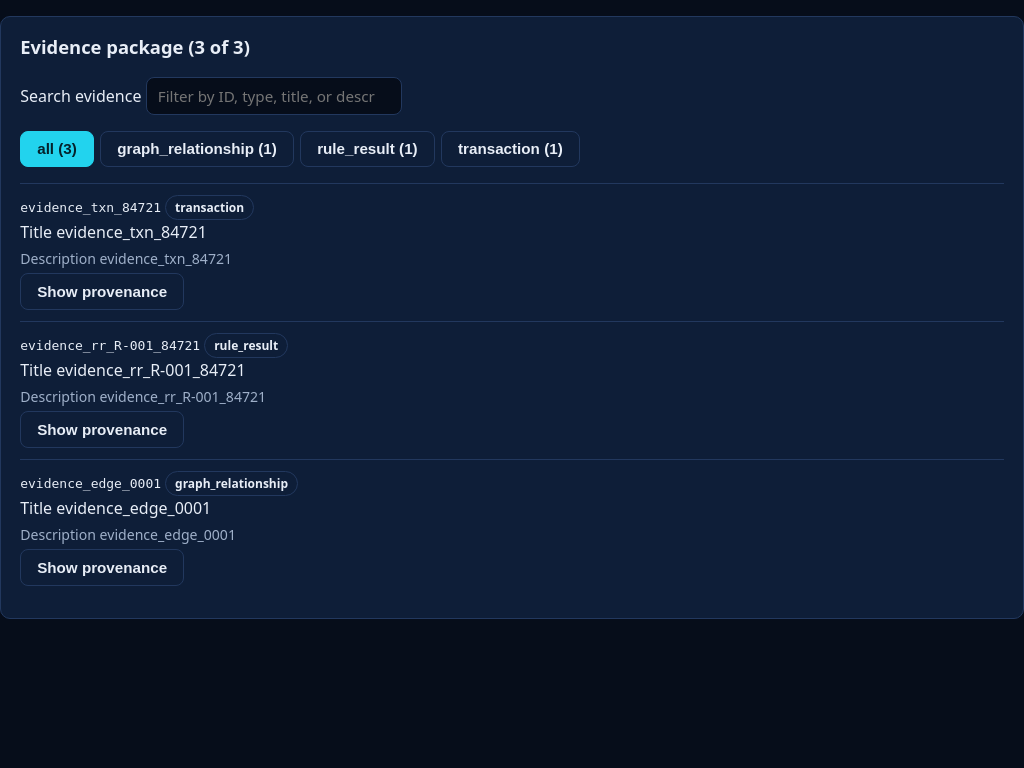
Test: EvidenceList › searches across id, type, title, and description
In the search field labelled "Search evidence": (274, 96) [146,77,402,115], type "edge_0001"
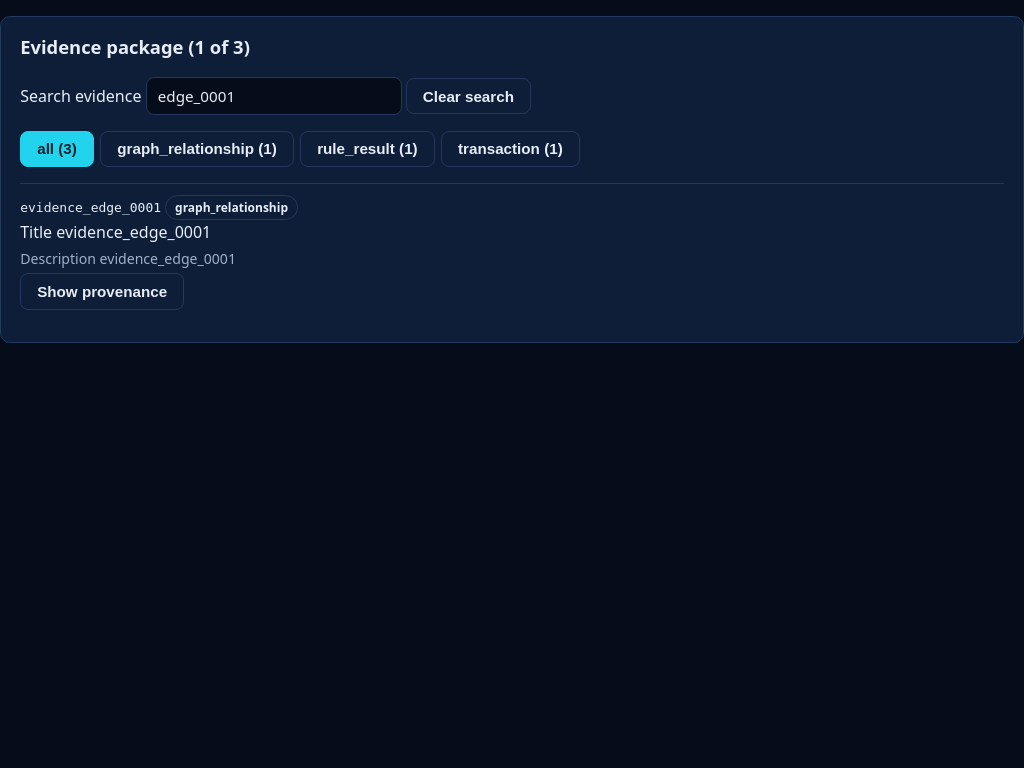
Expected: the text "evidence_edge_0001" is shown, [20,200,161,215]
Now the heading "Evidence package (1 of 3)" is shown, box [20,34,250,59]
Now the text "evidence_txn_84721" is gone
Replace the text in the search field labelled "Search evidence" with "RULE_RESULT": (274, 96) [146,77,402,115]
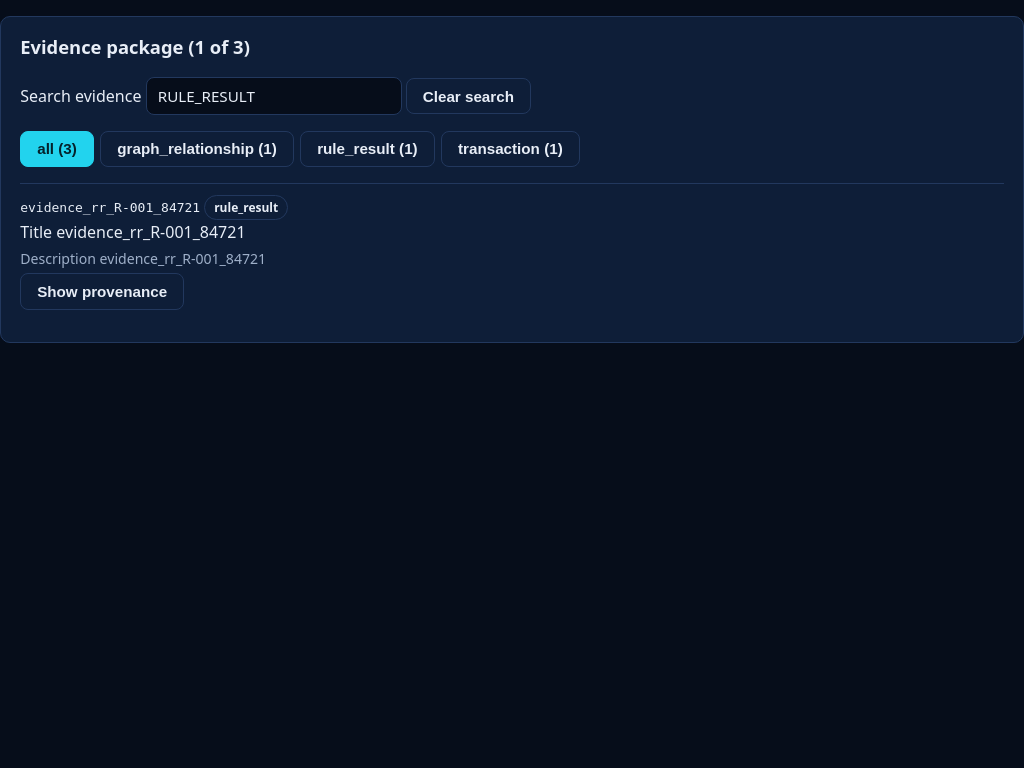
Now the heading "Evidence package (1 of 3)" is shown, box [20,34,250,59]
Now the text "evidence_rr_R-001_84721" is shown, box [20,200,200,215]
